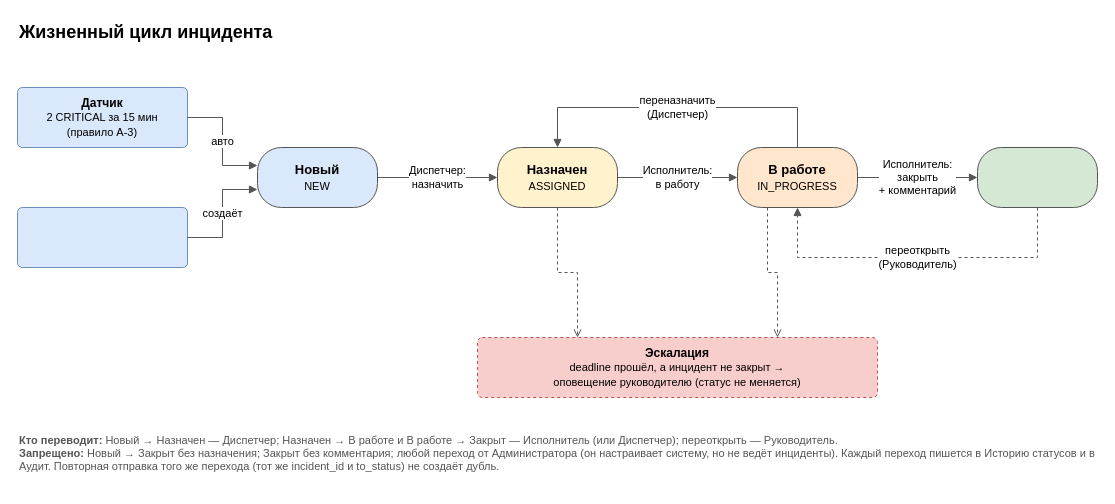
Some shapes in this 1115 by 504 pixel diagram are drawn without their labels. The centre of each missing label's shape, as x and y in pixels:
"Закрыт CLOSED" belongs at [1037,177].
"Мобильное приложение сотрудник на участке" belongs at [102,237].
